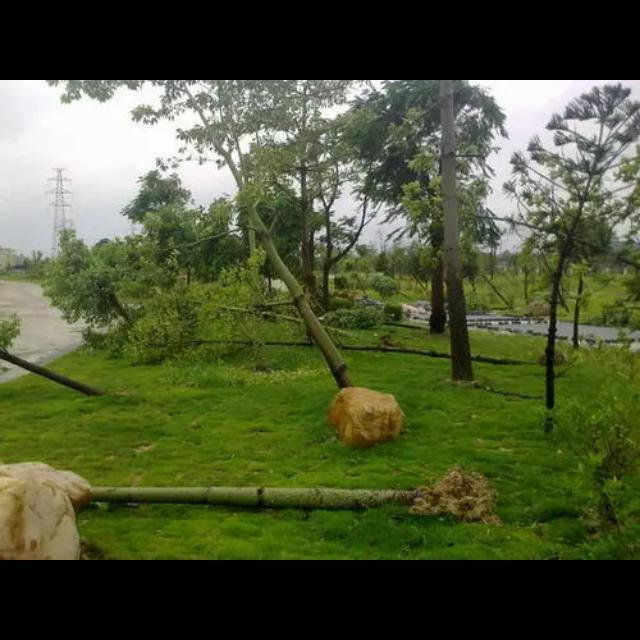fallen_tree: (64, 80, 358, 406), (47, 236, 365, 356), (79, 454, 469, 524), (2, 306, 118, 404)
